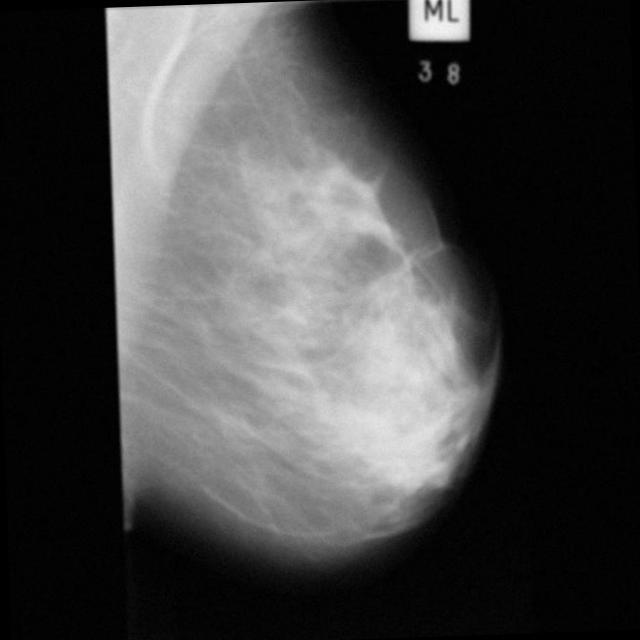SPIC: (304, 200, 475, 372)
